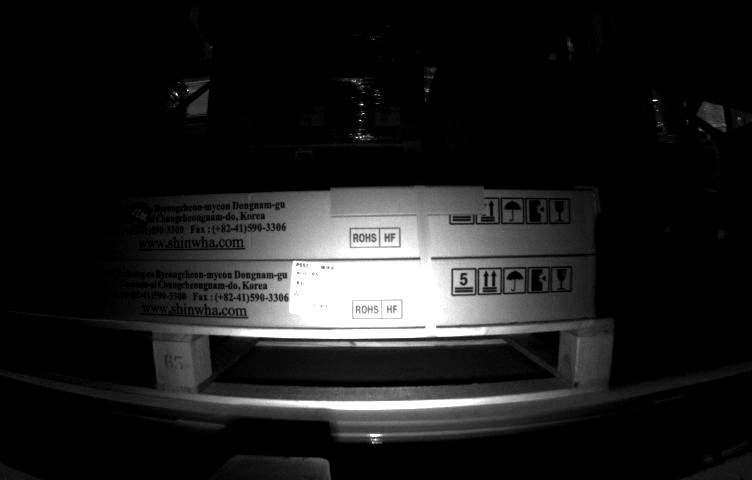True Barcode: (292, 261, 348, 318)
